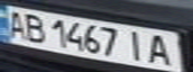1: (45, 17, 69, 48)
4: (63, 19, 84, 52)
6: (81, 22, 103, 55)
7: (100, 25, 124, 57)
A: (145, 32, 178, 68), (3, 7, 30, 39)
B: (21, 11, 48, 44)
I: (124, 27, 151, 63)
